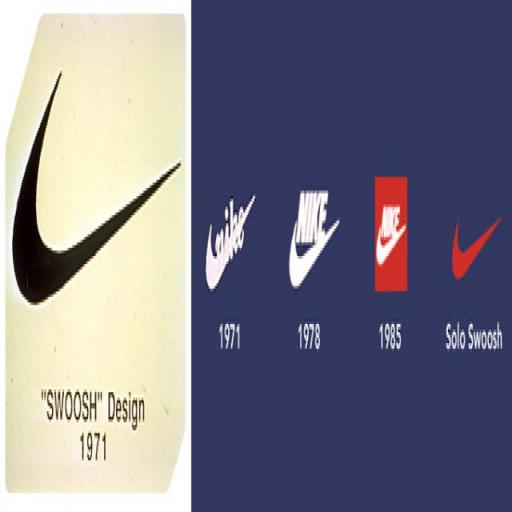Nike: (13, 84, 183, 311), (296, 193, 327, 243)
